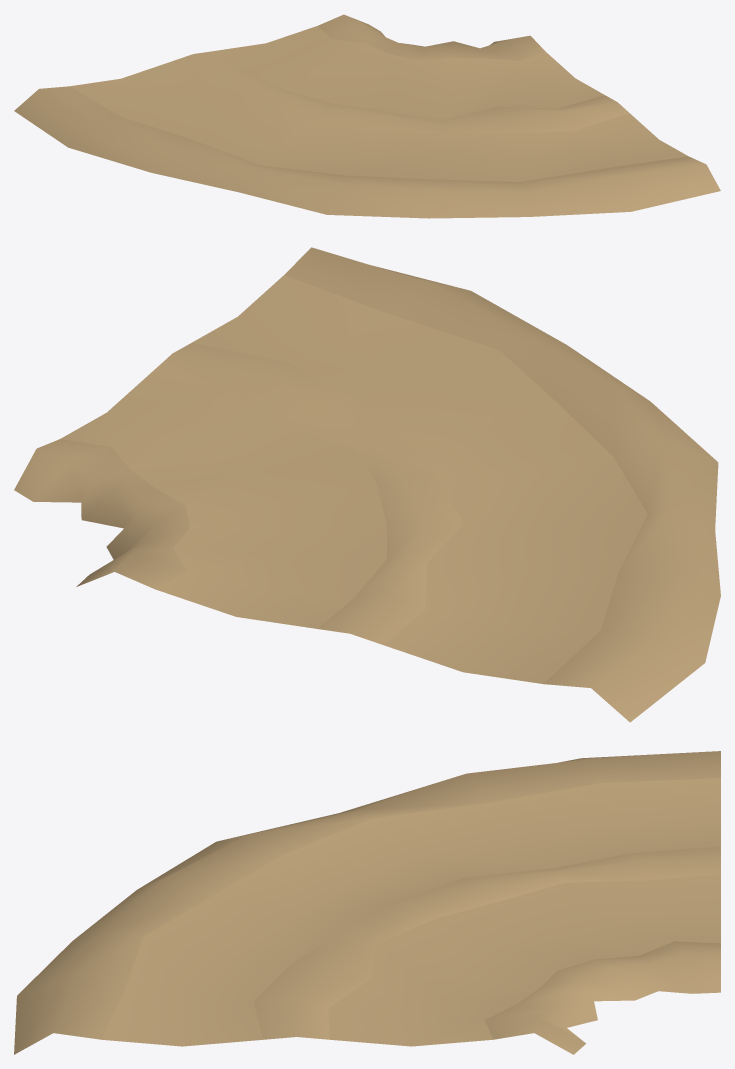
File: Building_mode_L1_Roadleft001.fbx
The picture shows the model from 3 angles, top to bottom: view 1: azimuth 30°, elevation 25°; view 2: azimuth 150°, elevation 25°; view 3: azimuth 270°, elevation 25°; orthographic projection. The views are drawn at different scales.
Visible parts, largest first — view 1: Building_mode_L1_Roadleft001; view 2: Building_mode_L1_Roadleft001; view 3: Building_mode_L1_Roadleft001.
Part boxes in pixels (<box>): Building_mode_L1_Roadleft001: <box>14,14,720,218</box>; Building_mode_L1_Roadleft001: <box>14,247,720,722</box>; Building_mode_L1_Roadleft001: <box>14,751,720,1054</box>.
Size of the model in its own units: 3.16 by 0.1243 by 3.16.
